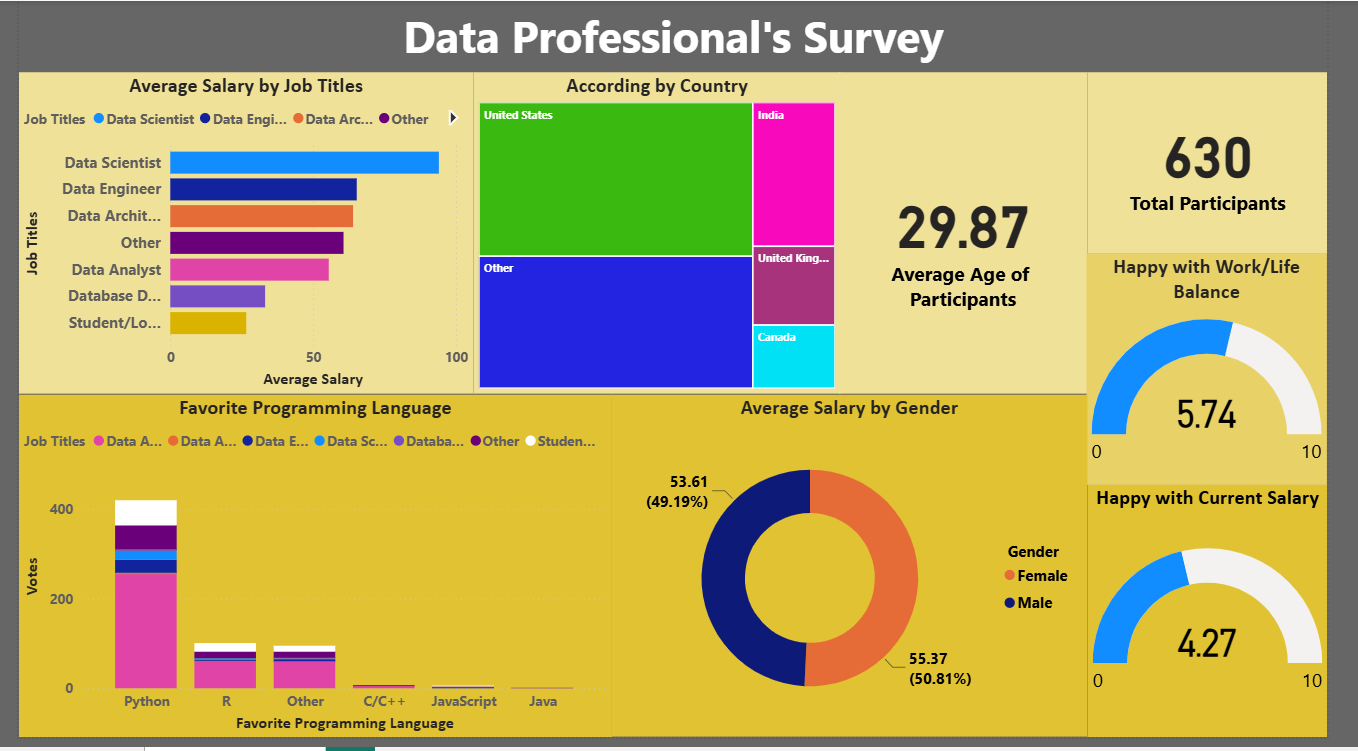

The dashboard page shown, as its layout file describes it:
{"tool":"powerbi","page":{"name":"Data_Professional's","canvas":[1280,720],"ordinal":0},"visuals":[{"type":"textbox","box":[0,0,1280.3,70],"z":0},{"type":"card","fields":{"Values":["Count(Data Professional Survey.Unique ID)"]},"box":[1045.6,69.9,235.2,177.3],"z":1000},{"type":"card","fields":{"Values":["Avg(Data Professional Survey.Q10 - Current Age)"]},"box":[802.7,70,242.9,314.2],"z":2000},{"type":"barChart","title":"Average Salary by Job Titles","fields":{"Category":["Data Professional Survey.Q1 - Which Title Best Fits your Current Role?.1"],"Y":["Avg(Data Professional Survey.Average Salary)"],"Series":["Data Professional Survey.Q1 - Which Title Best Fits your Current Role?.1"]},"box":[0,70,444.6,314.2],"z":3000},{"type":"treemap","fields":{"Group":["Data Professional Survey.Q11 - Which Country do you live in?.1"],"Values":["CountNonNull(Data Professional Survey.Q11 - Which Country do you live in?.1)"]},"box":[444.6,70,358.1,314.2],"z":4000},{"type":"columnChart","title":"Favorite Programming Language","fields":{"Y":["CountNonNull(Data Professional Survey.Unique ID)"],"Category":["Data Professional Survey.Q5 - Favorite Programming Language.1"],"Series":["Data Professional Survey.Q1 - Which Title Best Fits your Current Role?.1"]},"box":[0,384.7,580.1,335.3],"z":5000},{"type":"gauge","title":"Happy with Current Salary","fields":{"Y":["Avg(Data Professional Survey.Q6 - How Happy are you in your Current Position with the following? (Salary))"],"MinValue":["Min(Data Professional Survey.Q6 - How Happy are you in your Current Position with the following? (Salary))"],"MaxValue":["Max(Data Professional Survey.Q6 - How Happy are you in your Current Position with the following? (Salary))"]},"box":[1045.6,473.4,234.6,247],"z":6000},{"type":"gauge","title":"Happy with Work/Life Balance","fields":{"Y":["Avg(Data Professional Survey.Q6 - How Happy are you in your Current Position with the following? (Work/Life Balance))"],"MinValue":["Min(Data Professional Survey.Q6 - How Happy are you in your Current Position with the following? (Work/Life Balance))"],"MaxValue":["Max(Data Professional Survey.Q6 - How Happy are you in your Current Position with the following? (Work/Life Balance))"]},"box":[1044.4,247.2,235.2,226.7],"z":7000},{"type":"donutChart","title":"Average Salary by Gender","fields":{"Y":["Avg(Data Professional Survey.Average Salary)"],"Category":["Data Professional Survey.Q9 - Male/Female?"]},"box":[580.1,384.7,465.5,334.1],"z":8000}]}

Visuals, with their boxes in screenshot pixels (x1, y1, x2, y2), scaled from the page's 1280x720 canvas onto the 1358x751 screenshot:
textbox: {"left": 0, "top": 0, "right": 1357, "bottom": 73}
card - Count(Data Professional Survey.Unique ID): {"left": 1109, "top": 73, "right": 1357, "bottom": 258}
card - Avg(Data Professional Survey.Q10 - Current Age): {"left": 852, "top": 73, "right": 1109, "bottom": 401}
"Average Salary by Job Titles" barChart: {"left": 0, "top": 73, "right": 472, "bottom": 401}
treemap - Data Professional Survey.Q11 - Which Country do you live in?.1 x CountNonNull(Data Professional Survey.Q11 - Which Country do you live in?.1): {"left": 472, "top": 73, "right": 852, "bottom": 401}
"Favorite Programming Language" columnChart: {"left": 0, "top": 401, "right": 615, "bottom": 750}
"Happy with Current Salary" gauge: {"left": 1109, "top": 494, "right": 1357, "bottom": 750}
"Happy with Work/Life Balance" gauge: {"left": 1108, "top": 258, "right": 1357, "bottom": 494}
"Average Salary by Gender" donutChart: {"left": 615, "top": 401, "right": 1109, "bottom": 750}
